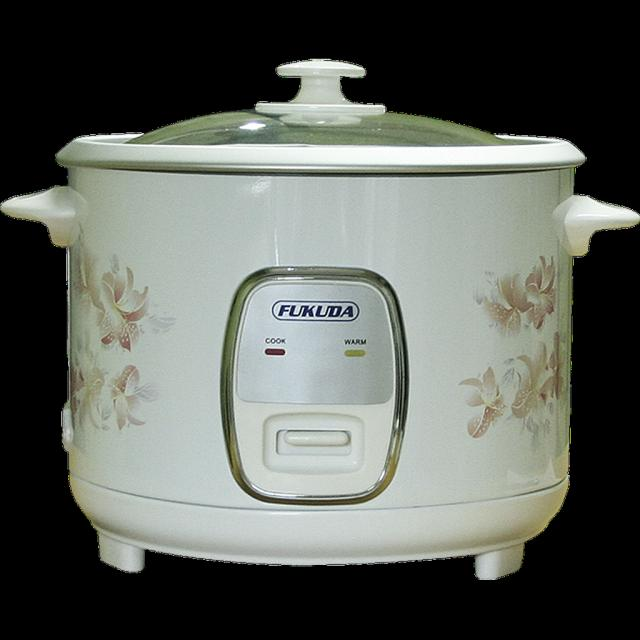appliances: (2, 109, 636, 576), (319, 101, 332, 119), (211, 128, 220, 137), (399, 119, 404, 135), (310, 62, 316, 68), (481, 136, 486, 141), (388, 114, 392, 119), (178, 131, 182, 134), (340, 69, 344, 72), (361, 131, 364, 134), (338, 140, 341, 142), (159, 133, 161, 135), (418, 119, 420, 121), (186, 131, 188, 132), (462, 128, 464, 128), (418, 126, 418, 128)
